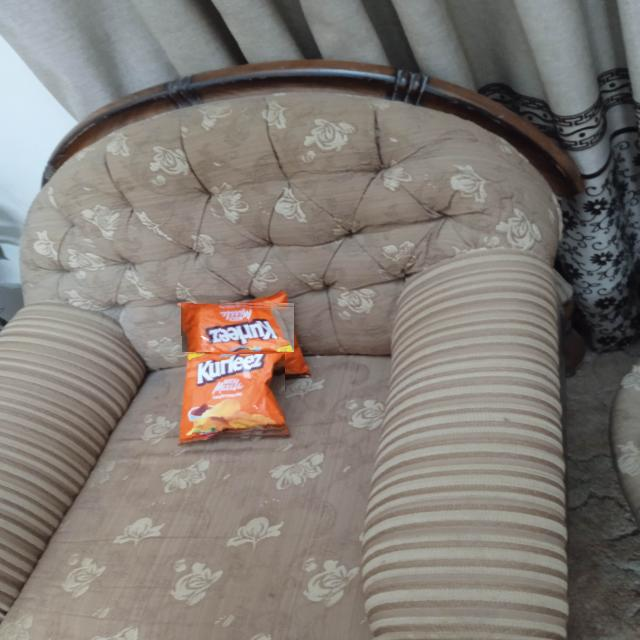Plastic: (183, 354, 285, 440), (180, 302, 294, 352)
